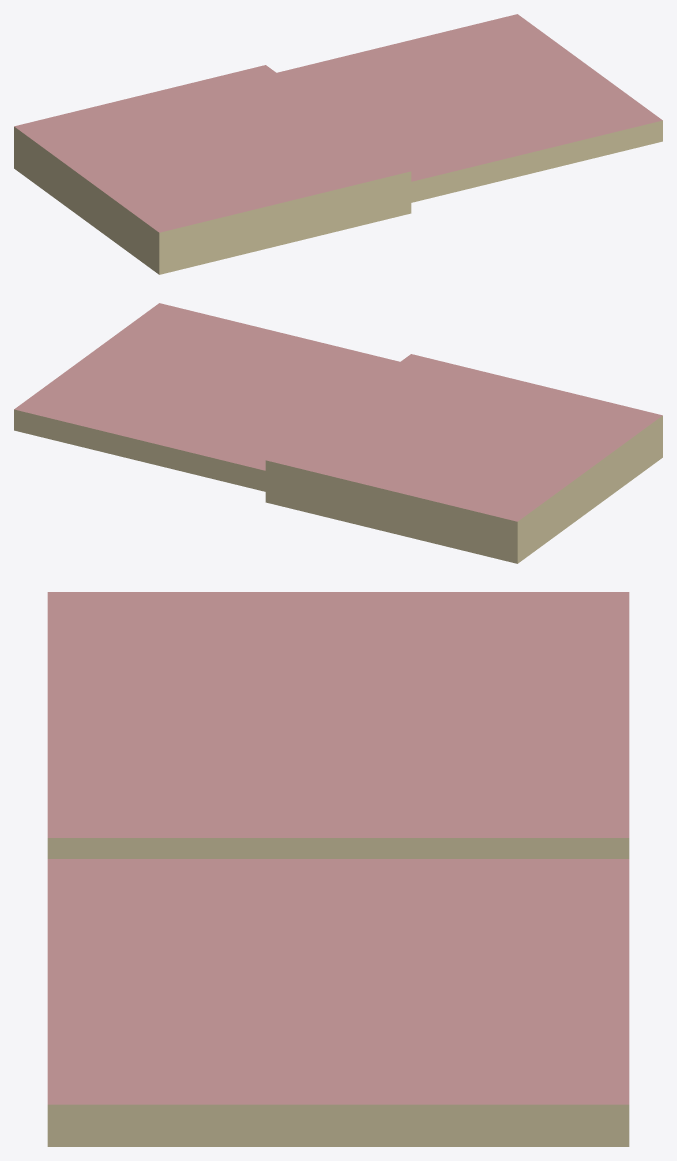
Rendered from split_level.gltf.
3 renders of one model, top to bottom at view 1: azimuth 30°, elevation 25°; view 2: azimuth 150°, elevation 25°; view 3: azimuth 270°, elevation 25°, orthographic. The views are drawn at different scales.
Visible parts, largest first — view 1: Face 13, Face 7, Face 15, Face 3, Face 9, Face 16, Face 4; view 2: Face 13, Face 7, Face 17, Face 5, Face 11, Face 16, Face 4; view 3: Face 13, Face 7, Face 8, Surface 2.
Boxes of the visible parts, box(x1,y1,x2,y2) form: Face 13: box(14, 65, 410, 232); Face 7: box(277, 14, 662, 181); Face 15: box(159, 171, 411, 253); Face 3: box(159, 192, 411, 274); Face 9: box(411, 120, 662, 202); Face 16: box(14, 126, 159, 253); Face 4: box(14, 147, 159, 274); Face 13: box(266, 354, 662, 521); Face 7: box(14, 303, 399, 470); Face 17: box(265, 460, 517, 542); Face 5: box(265, 481, 517, 563); Face 11: box(14, 409, 265, 491); Face 16: box(517, 415, 662, 542); Face 4: box(517, 436, 662, 563); Face 13: box(47, 592, 629, 837); Face 7: box(47, 859, 629, 1104); Face 8: box(47, 1104, 629, 1146); Surface 2: box(47, 838, 629, 858).
Size of the model in its own units: 60.96 by 4.88 by 30.48.
